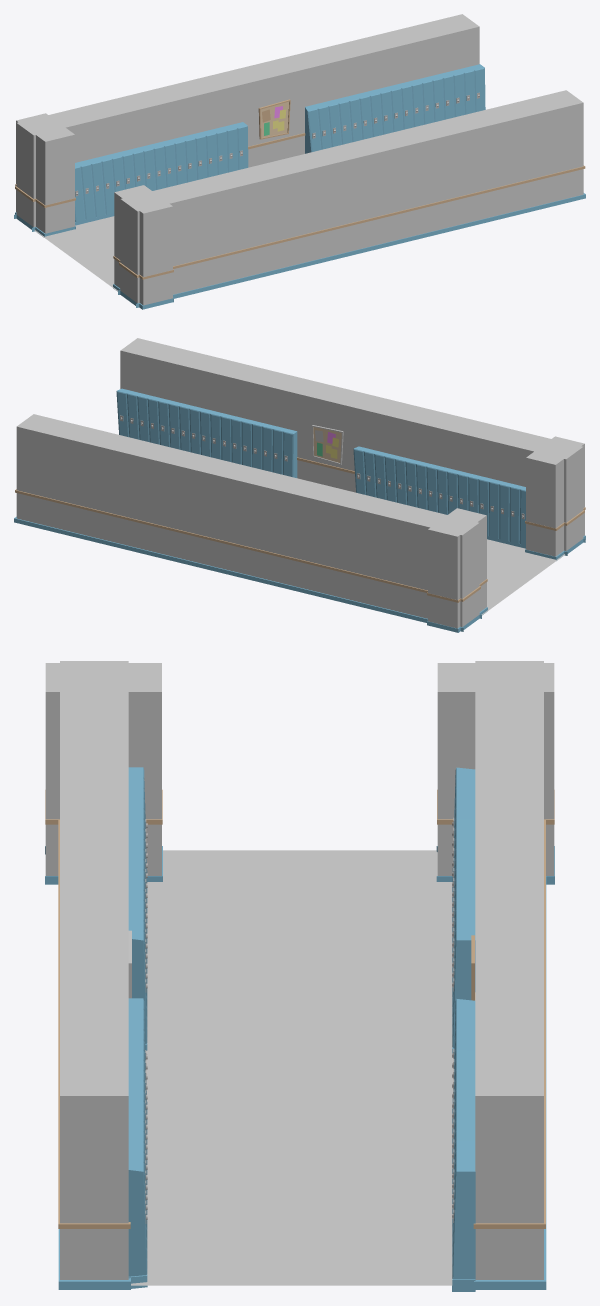
Rendered from Tile1.fbx.
The picture shows the model from 3 angles, top to bottom: view 1: azimuth 30°, elevation 25°; view 2: azimuth 150°, elevation 25°; view 3: azimuth 270°, elevation 25°; orthographic projection. The views are drawn at different scales.
Visible parts, largest first — view 1: Plane; view 2: Plane; view 3: Plane.
Part boxes in pixels (x1=…): Plane: x1=14, y1=14, x2=585, y2=309; Plane: x1=14, y1=338, x2=585, y2=632; Plane: x1=45, y1=661, x2=554, y2=1291.
Bounding box in the file's own units: 3027 × 626 × 1487.
